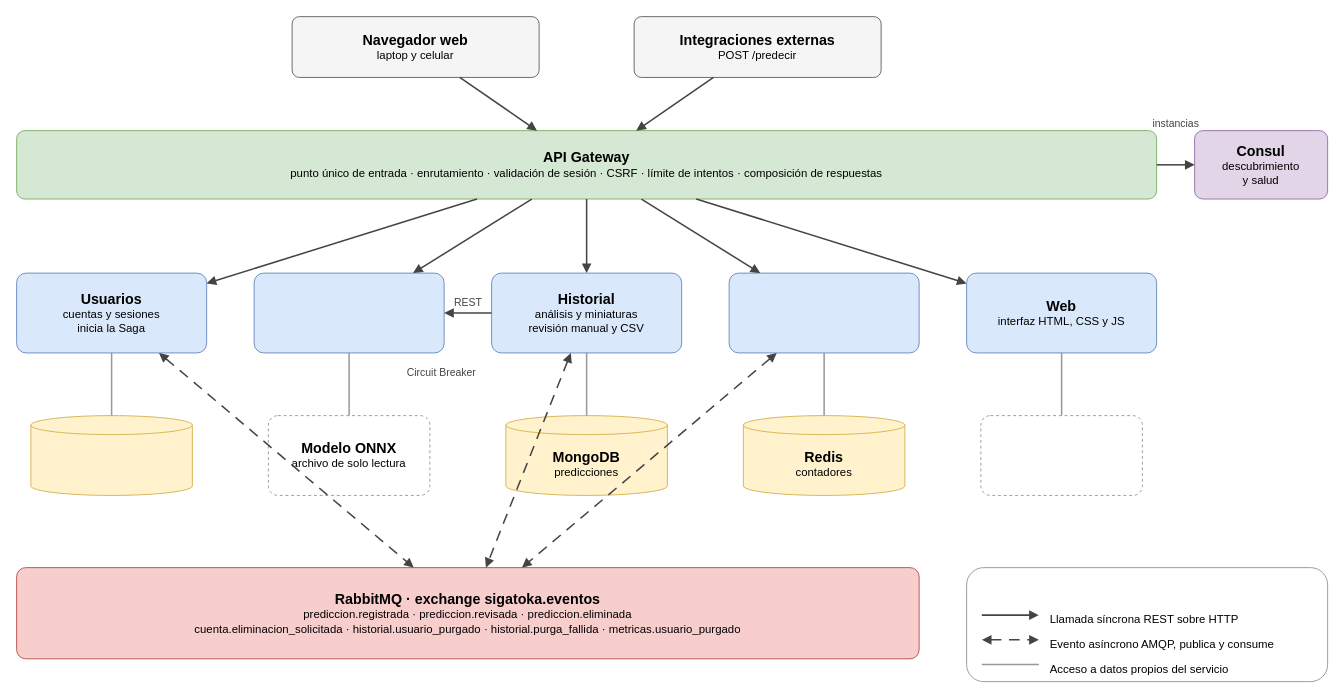
The diagram is 1344 pixels wide and 698 high, and some of its shapes have lost their labels. Each missing label, with the box of its shape:
Diagnóstico validación de imagen inferencia ONNX, sin estado: (253, 272, 444, 353)
Leyenda: (966, 567, 1328, 682)
Métricas matriz de confusión modelo de lectura: (728, 272, 919, 353)
nginx archivos estáticos: (980, 415, 1142, 495)
PostgreSQL usuarios, sesiones, sagas: (30, 415, 192, 495)
